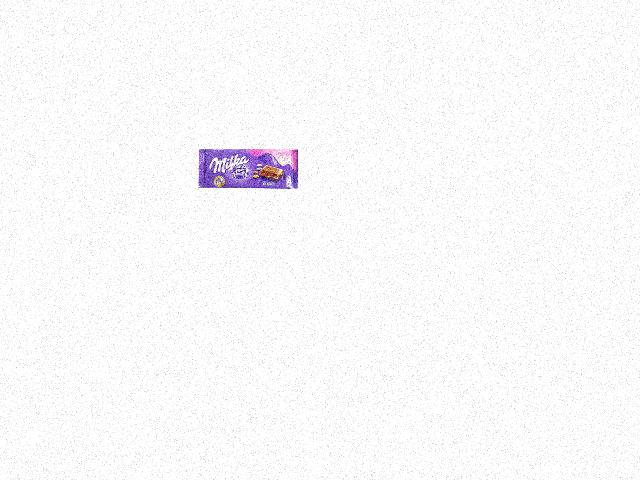chocolate: (198, 148, 297, 190)
